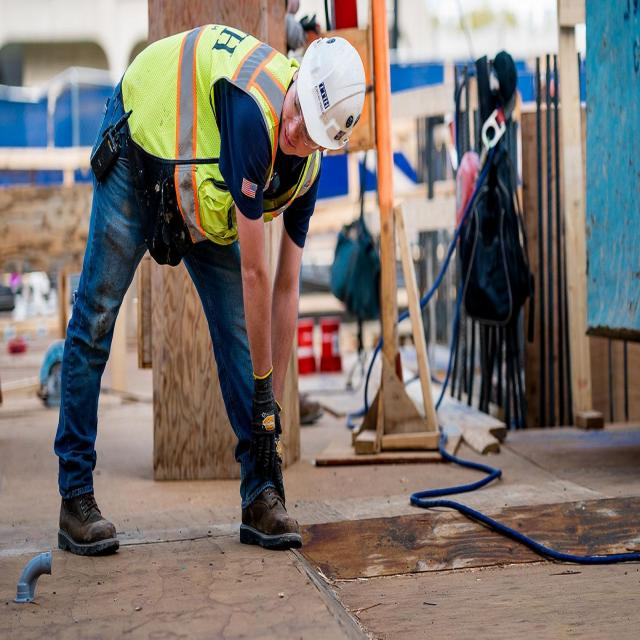Reflective-Jacket: (121, 21, 318, 253)
Safety-Helmet: (294, 30, 370, 154)
